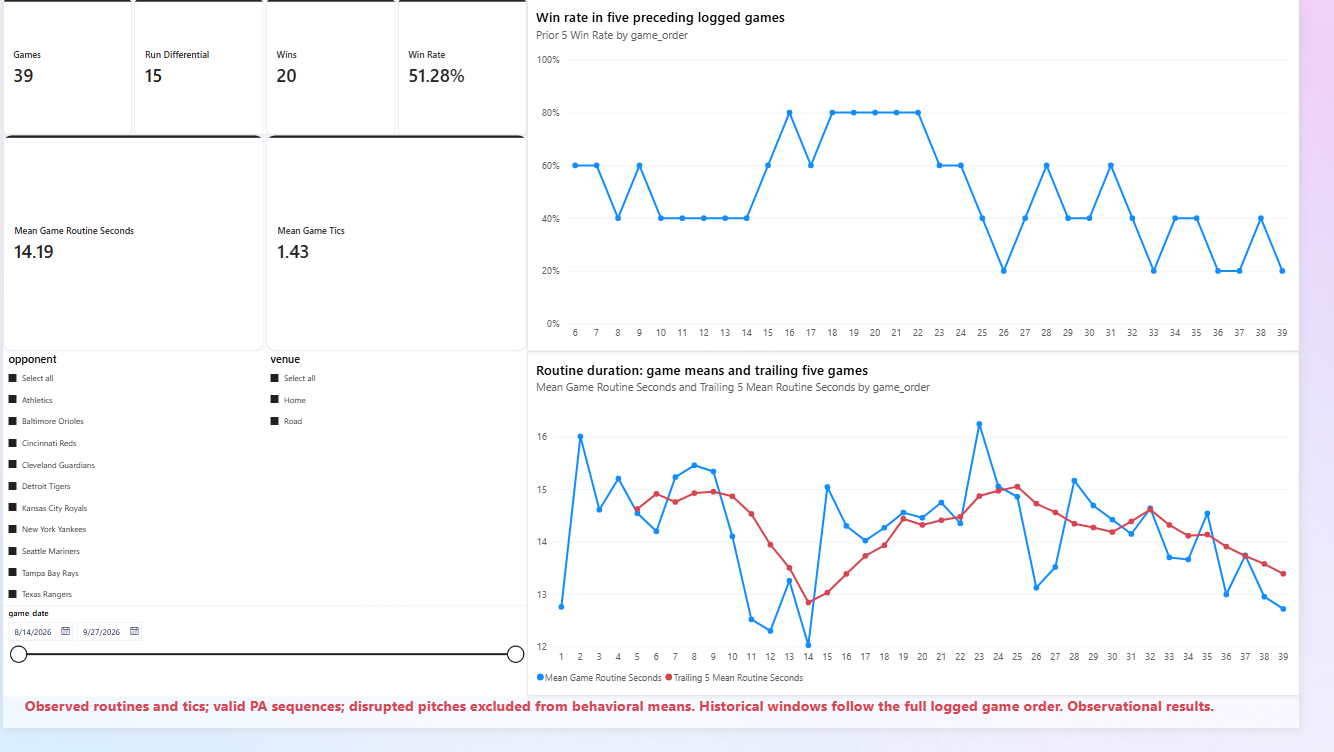

Layout of this report page (visuals, bound fields, positions):
{"tool":"powerbi","page":{"name":"Game overview","canvas":[1920,1080],"ordinal":0},"visuals":[{"type":"cardVisual","fields":{"Data":["DimGame.Games","DimGame.Run Differential","DimGame.Wins","DimGame.Win Rate"]},"box":[0,0,776,202],"z":0},{"type":"cardVisual","fields":{"Data":["DimGame.Mean Game Routine Seconds","DimGame.Mean Game Tics"]},"box":[0,202,776,320],"z":1000},{"type":"slicer","fields":{"Values":["DimGame.opponent"]},"box":[0,522,388,376],"z":2000},{"type":"slicer","fields":{"Values":["DimGame.venue"]},"box":[388,522,388,376],"z":3000},{"type":"slicer","fields":{"Values":["DimGame.game_date"]},"box":[0,900,776,132],"z":4000},{"type":"lineChart","title":"Routine duration: game means and trailing five games","fields":{"Category":["DimGame.game_order"],"Y":["DimGame.Mean Game Routine Seconds","DimGame.Trailing 5 Mean Routine Seconds"]},"box":[776,522,1144,510],"z":5000},{"type":"lineChart","title":"Win rate in five preceding logged games","fields":{"Category":["DimGame.game_order"],"Y":["DimGame.Prior 5 Win Rate"]},"box":[776,0,1144,522],"z":6000},{"type":"textbox","box":[0,1031.7,1826.7,48.3],"z":8000}]}

Visuals, with their boxes in screenshot pixels (x1, y1, x2, y2), scaled from the page's 1920x1080 canvas onto the 1334x752 screenshot:
cardVisual - DimGame.Games x DimGame.Run Differential: region(0, 0, 539, 141)
cardVisual - DimGame.Mean Game Routine Seconds x DimGame.Mean Game Tics: region(0, 141, 539, 363)
slicer - DimGame.opponent: region(0, 363, 270, 625)
slicer - DimGame.venue: region(270, 363, 539, 625)
slicer - DimGame.game_date: region(0, 627, 539, 719)
"Routine duration: game means and trailing five games" lineChart: region(539, 363, 1333, 719)
"Win rate in five preceding logged games" lineChart: region(539, 0, 1333, 363)
textbox: region(0, 718, 1269, 751)
